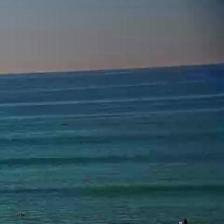surfer: (18, 212, 26, 218), (183, 218, 189, 224)
